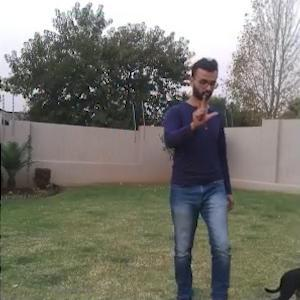land_hand: (191, 92, 220, 127)
